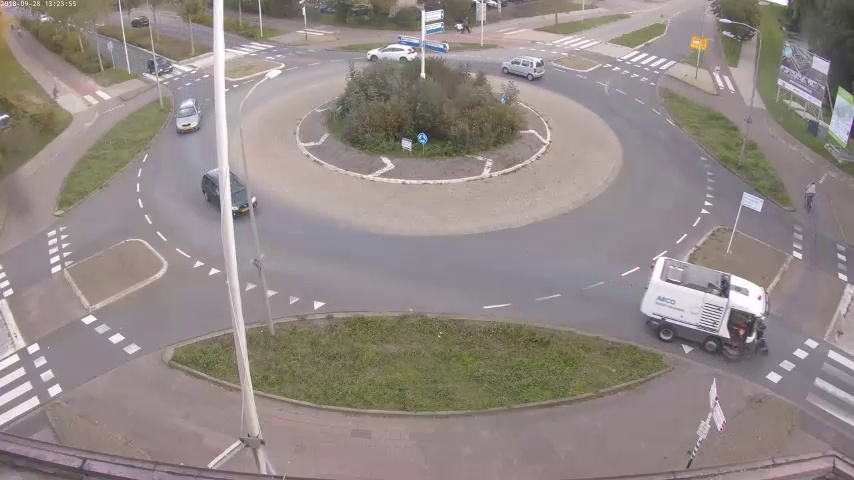bicycle: (800, 180, 817, 216)
car: (198, 166, 248, 222), (366, 41, 419, 65), (500, 54, 545, 81), (175, 103, 197, 135), (145, 56, 165, 75), (128, 15, 146, 28)
van: (640, 256, 768, 354)
